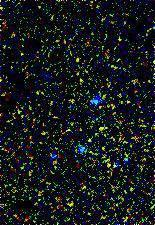star: (87, 114, 117, 144)
